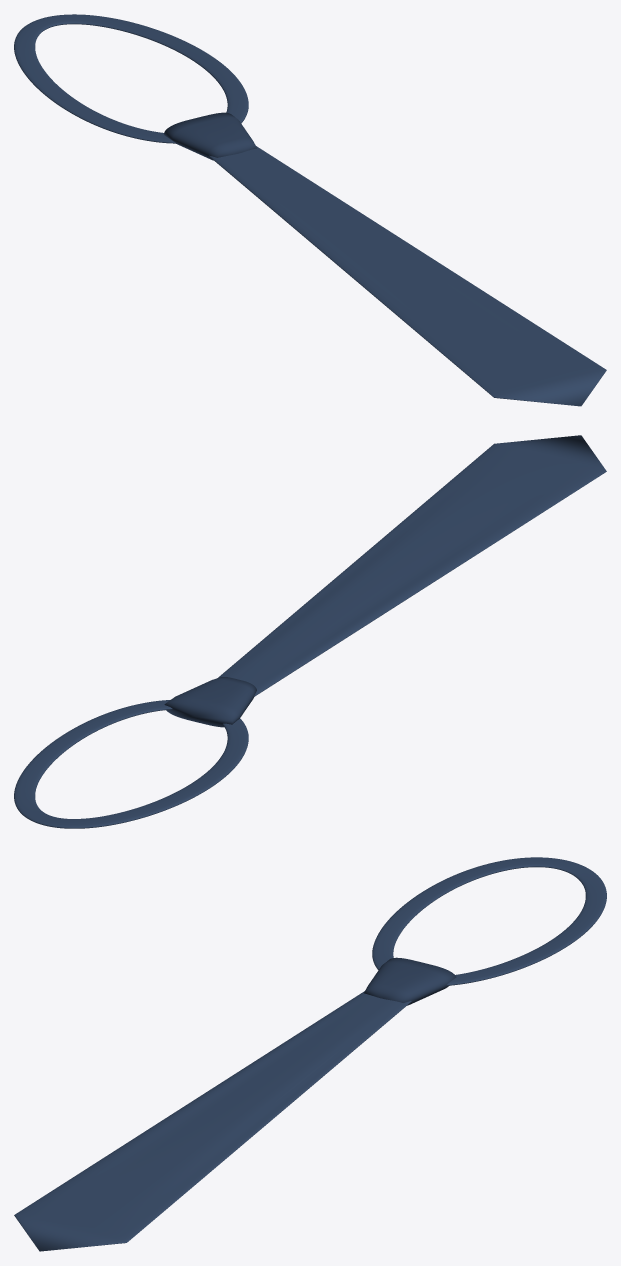
The picture shows the model from 3 angles, top to bottom: view 1: azimuth 30°, elevation 25°; view 2: azimuth 150°, elevation 25°; view 3: azimuth 330°, elevation 25°; orthographic projection.
Parts seen in each view (by area): view 1: Original long pointed front blade, Original flattened cloth neck loop, Original tapered gathered necktie knot; view 2: Original long pointed front blade, Original flattened cloth neck loop, Original tapered gathered necktie knot; view 3: Original long pointed front blade, Original flattened cloth neck loop, Original tapered gathered necktie knot.
Boxes of the visible parts, <box> form: Original long pointed front blade: <box>209,146,606,406</box>; Original flattened cloth neck loop: <box>14,14,248,143</box>; Original tapered gathered necktie knot: <box>164,112,256,160</box>; Original long pointed front blade: <box>217,435,606,696</box>; Original flattened cloth neck loop: <box>14,700,248,828</box>; Original tapered gathered necktie knot: <box>164,677,256,727</box>; Original long pointed front blade: <box>14,991,411,1251</box>; Original flattened cloth neck loop: <box>372,857,606,985</box>; Original tapered gathered necktie knot: <box>364,957,456,1005</box>.
Size of the model in its own units: 10.8 by 1.16 by 60.4.
